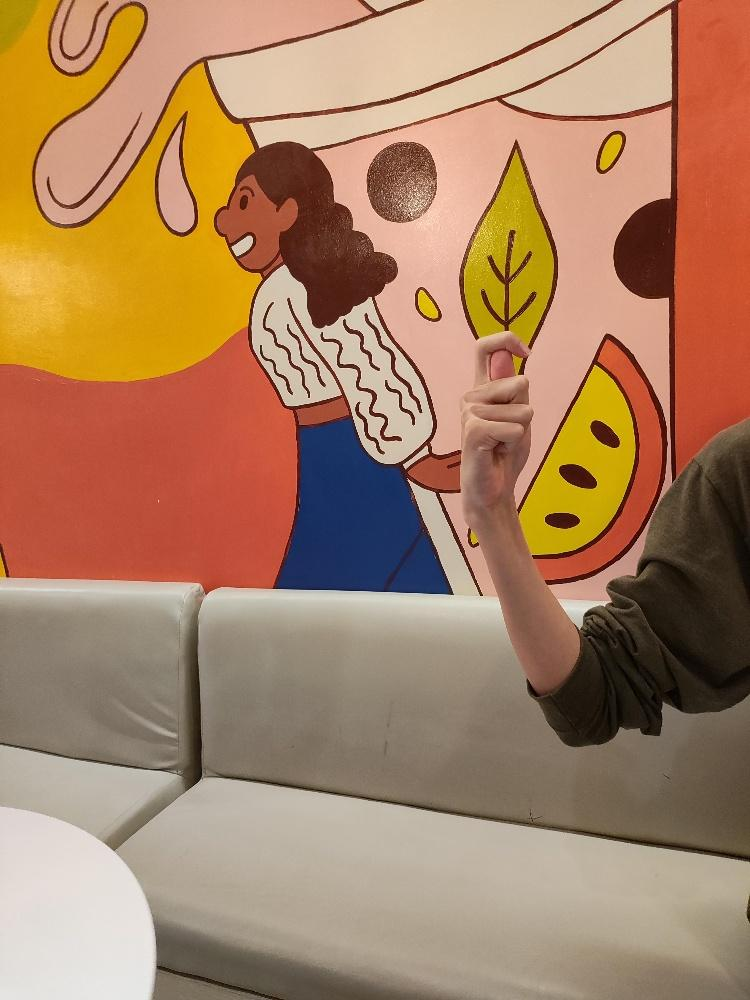t: (457, 328, 536, 529)
